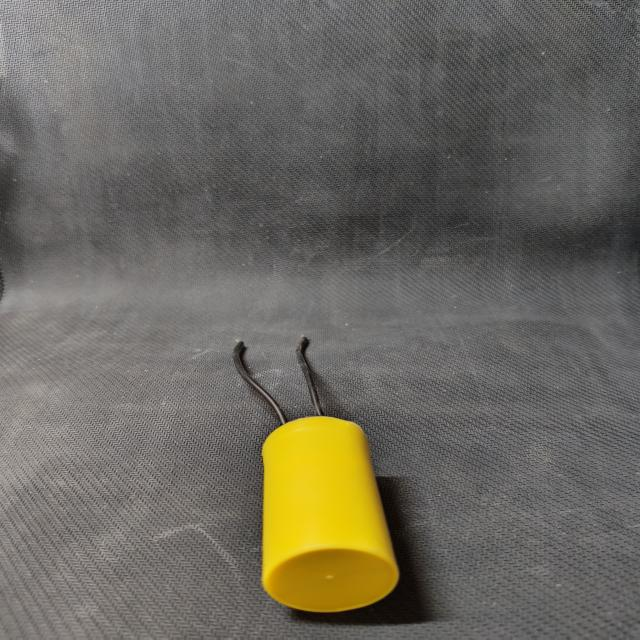capacitor: (227, 327, 409, 618)
